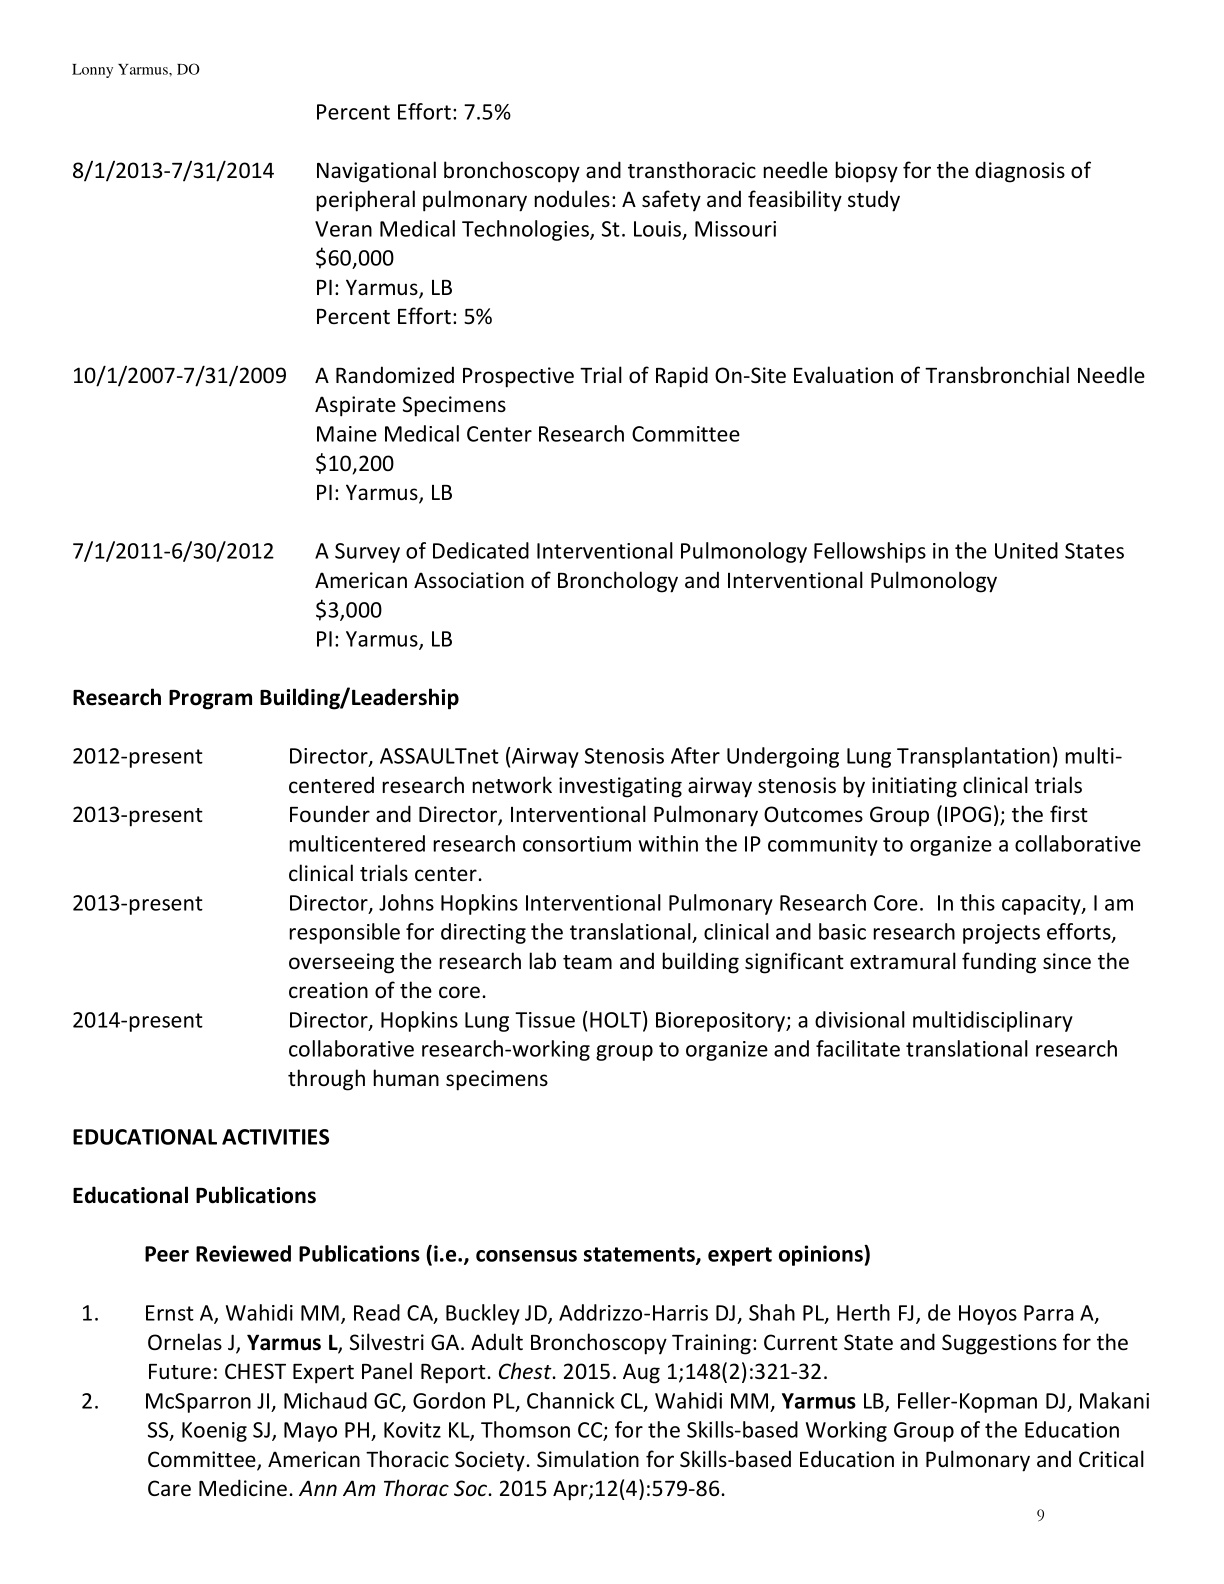nolines: (69, 154, 1153, 656), (69, 741, 1143, 1093)
